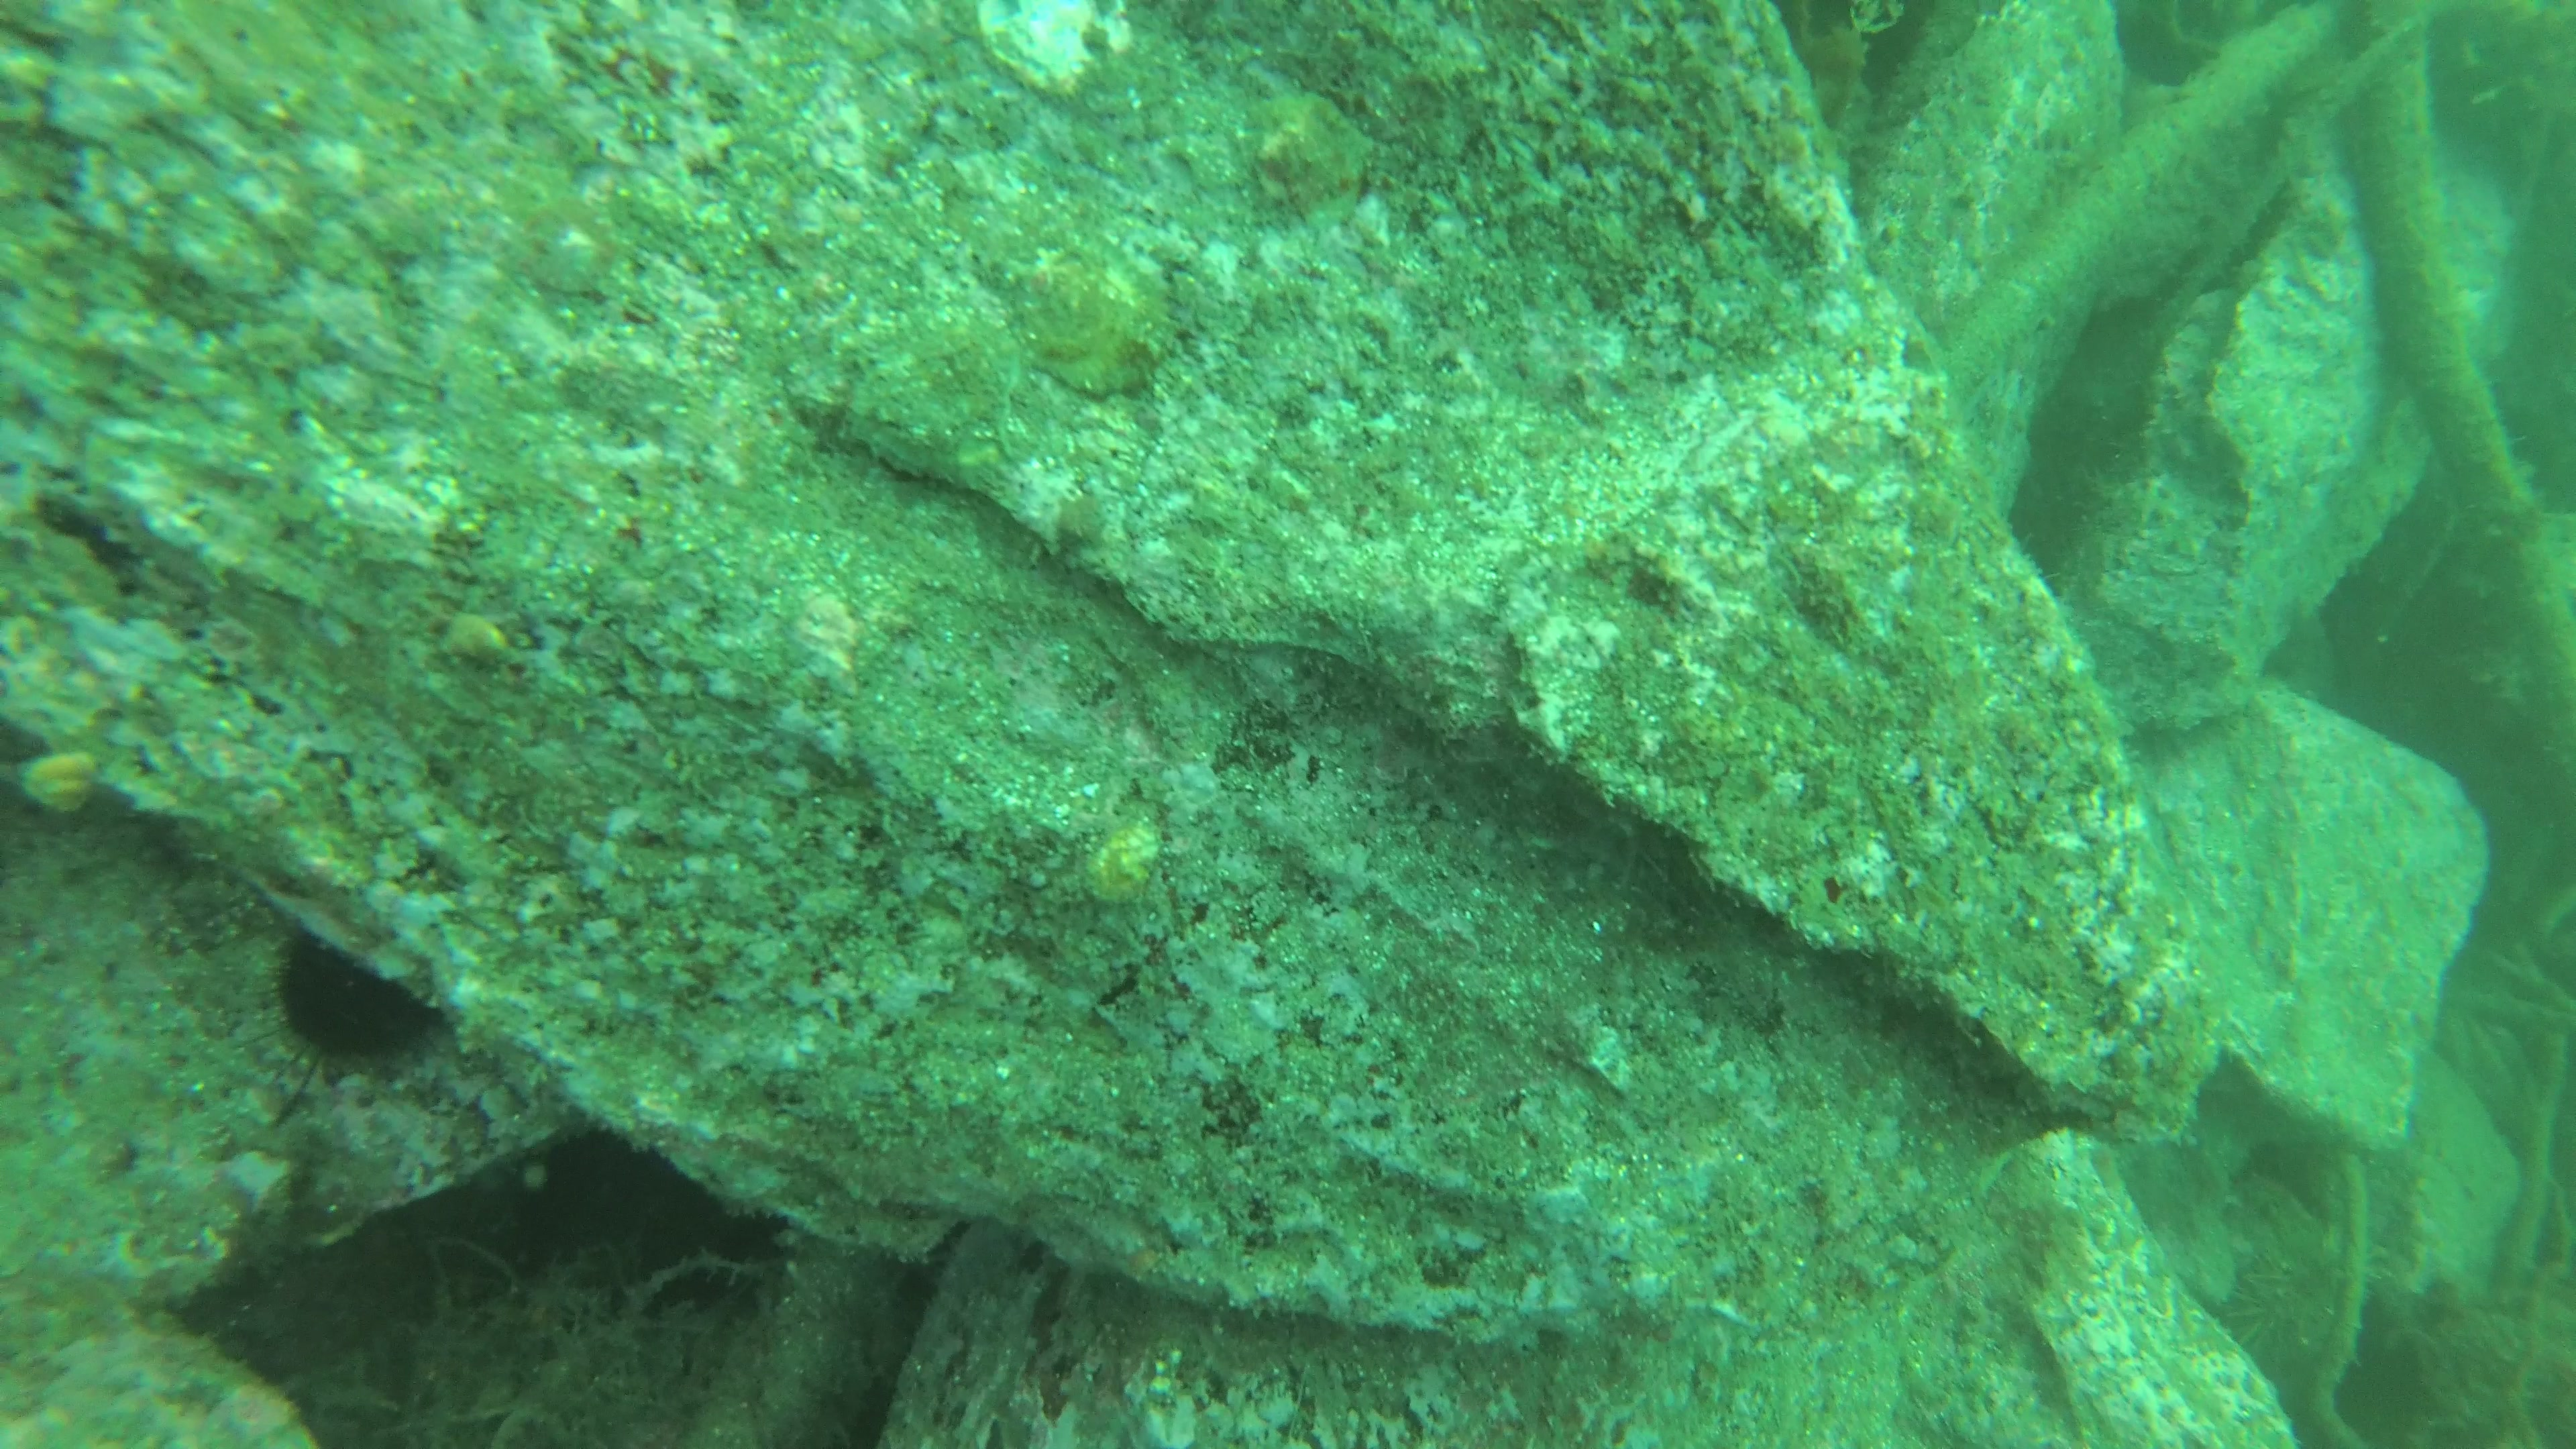echinus: (248, 922, 456, 1079)
